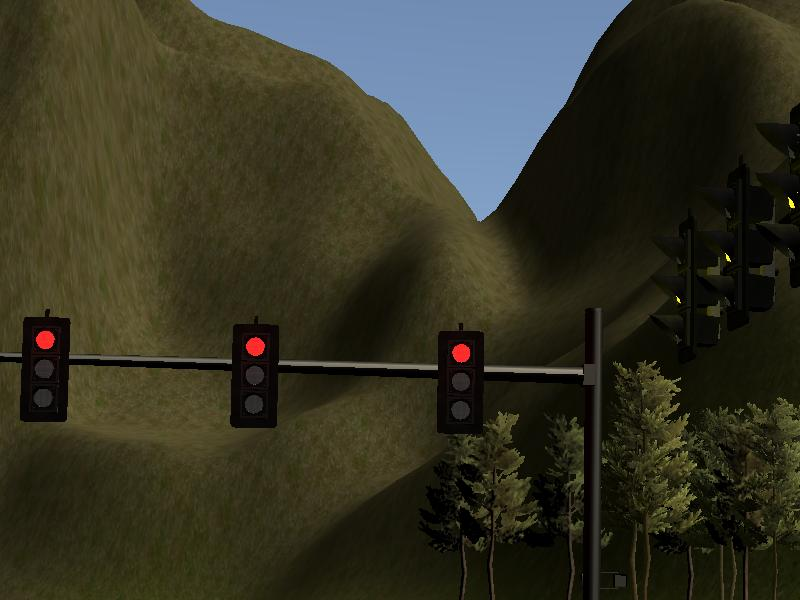red: (21, 315, 67, 425), (436, 329, 483, 432), (235, 322, 277, 427)
